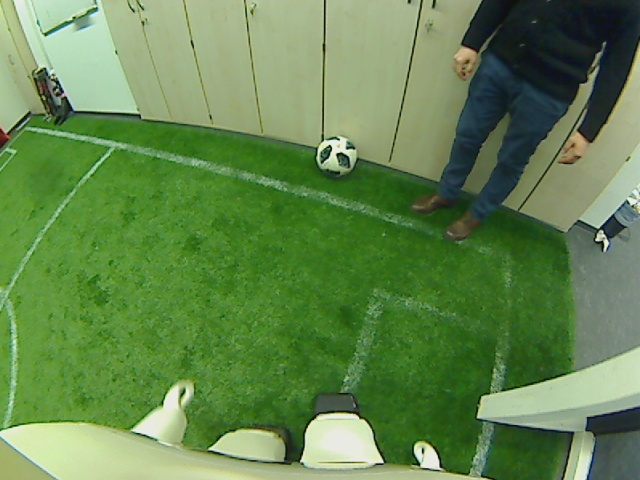ball: (313, 132, 357, 175)
